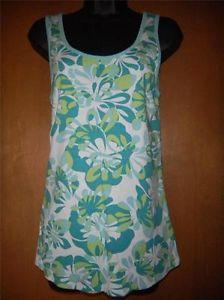C_tank top: (20, 10, 186, 295)
